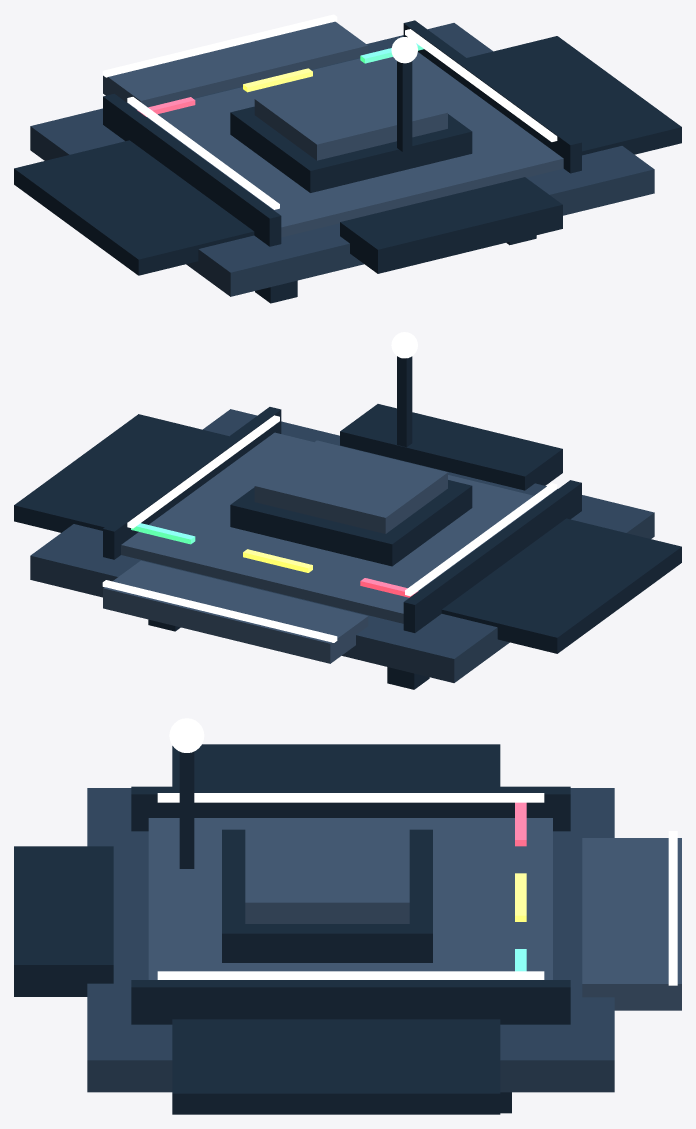
The model's file is dive_side_platform.glb.
The picture shows the model from 3 angles, top to bottom: view 1: azimuth 30°, elevation 25°; view 2: azimuth 150°, elevation 25°; view 3: azimuth 270°, elevation 25°; orthographic projection. The views are drawn at different scales.
Parts seen in each view (by area): view 1: DECK, WING_LEFT, BASE, WING_RIGHT, REAR_BLOCK, CORE_TOP, NOSE, CORE_BASE, GUARD_LEFT, GUARD_RIGHT, EMISSIVE_FRONT, EMISSIVE_PRIMARY_LEFT (+5 smaller); view 2: DECK, WING_LEFT, BASE, NOSE, WING_RIGHT, CORE_TOP, REAR_BLOCK, CORE_BASE, GUARD_LEFT, GUARD_RIGHT, EMISSIVE_FRONT, EMISSIVE_PRIMARY_RIGHT (+6 smaller); view 3: WING_RIGHT, BASE, DECK, GUARD_RIGHT, CORE_TOP, NOSE, REAR_BLOCK, WING_LEFT, CORE_BASE, GUARD_LEFT, EMISSIVE_PRIMARY_LEFT, EMISSIVE_PRIMARY_RIGHT (+3 smaller).
Boxes of the visible parts, x1,y1,x2,y2 form: DECK: [147, 52, 563, 237]; WING_LEFT: [14, 140, 254, 275]; BASE: [30, 23, 654, 296]; WING_RIGHT: [467, 36, 681, 155]; REAR_BLOCK: [340, 177, 562, 273]; CORE_TOP: [254, 67, 447, 160]; NOSE: [103, 21, 368, 107]; CORE_BASE: [230, 106, 472, 192]; GUARD_LEFT: [103, 93, 281, 246]; GUARD_RIGHT: [403, 20, 581, 173]; EMISSIVE_FRONT: [102, 14, 337, 77]; EMISSIVE_PRIMARY_LEFT: [127, 97, 279, 209]; DECK: [121, 432, 544, 623]; WING_LEFT: [441, 518, 681, 653]; BASE: [30, 409, 654, 682]; NOSE: [103, 560, 368, 663]; WING_RIGHT: [14, 414, 228, 532]; CORE_TOP: [254, 440, 447, 533]; REAR_BLOCK: [340, 404, 562, 490]; CORE_BASE: [230, 480, 472, 566]; GUARD_LEFT: [403, 480, 581, 632]; GUARD_RIGHT: [103, 407, 281, 559]; EMISSIVE_FRONT: [102, 580, 337, 642]; EMISSIVE_PRIMARY_RIGHT: [127, 415, 279, 528]; WING_RIGHT: [172, 1019, 500, 1114]; BASE: [87, 788, 614, 1092]; DECK: [148, 818, 552, 979]; GUARD_RIGHT: [131, 980, 570, 1024]; CORE_TOP: [245, 818, 409, 923]; NOSE: [582, 838, 681, 1010]; REAR_BLOCK: [14, 846, 113, 996]; WING_LEFT: [172, 744, 500, 786]; CORE_BASE: [222, 829, 432, 962]; GUARD_LEFT: [131, 786, 570, 831]; EMISSIVE_PRIMARY_LEFT: [157, 793, 544, 802]; EMISSIVE_PRIMARY_RIGHT: [157, 971, 544, 979].
Bounding box in the file's own units: 282 × 116 × 228.
